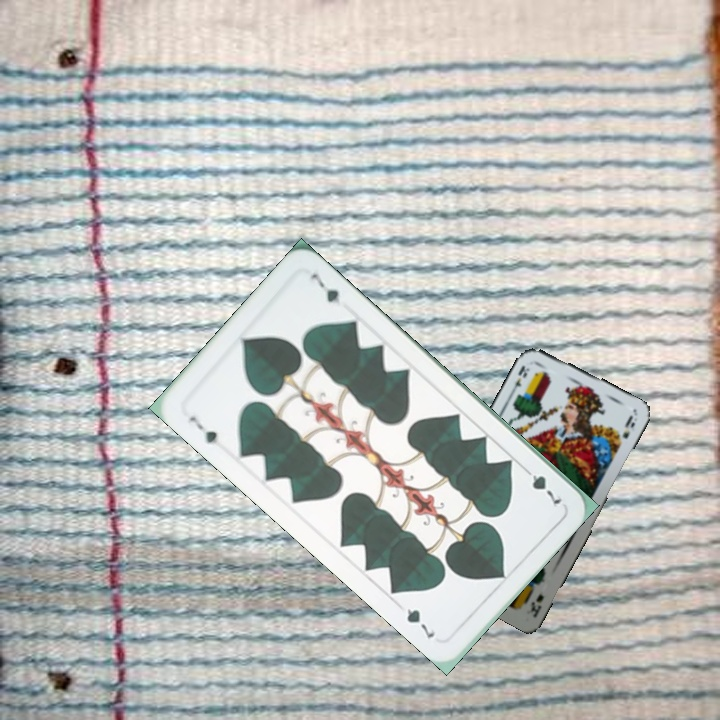EK: (509, 361, 532, 394), (524, 590, 546, 619)
G7: (518, 463, 565, 507), (185, 412, 225, 452)
